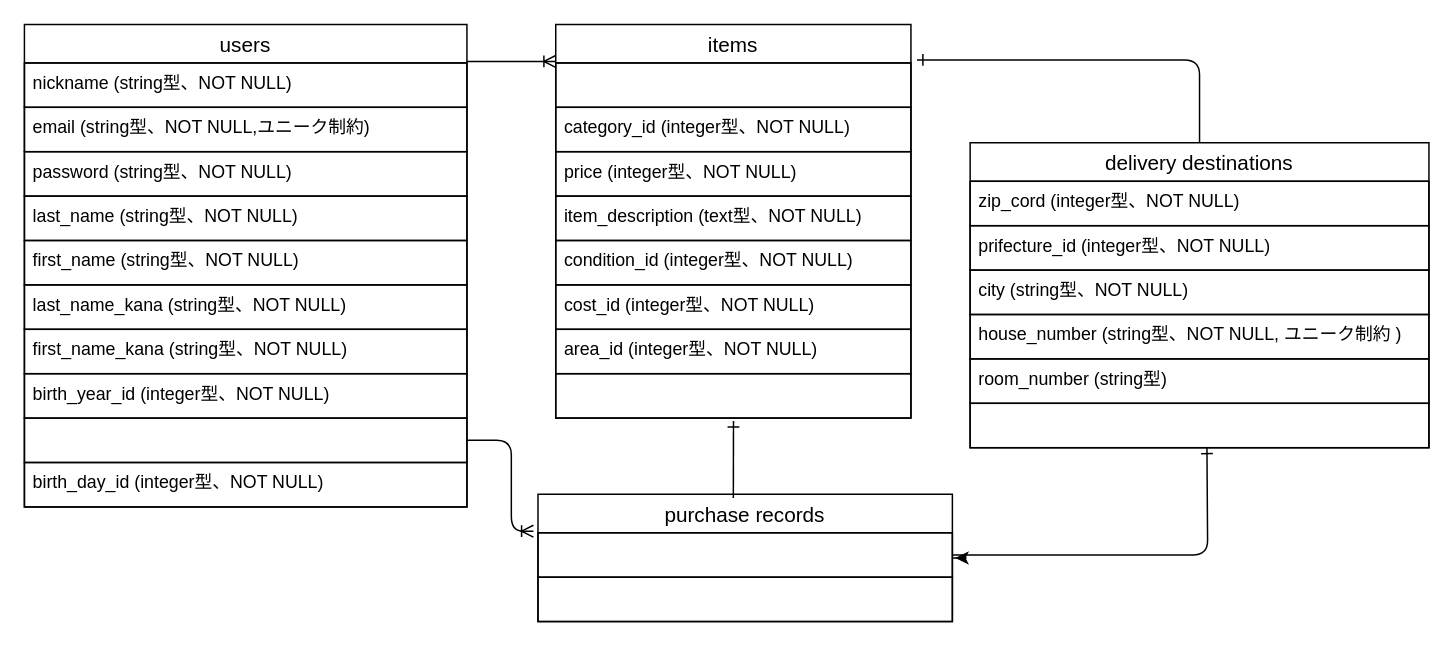
The diagram is 1453 pixels wide and 645 high, and some of its shapes have lost their labels. The shapes that lost their labels are listed below. From the top down, each one's centre as x and y in pixels, then its label:
At (x=732, y=84): "item_name (string型、NOT NULL)".
At (x=732, y=395): "days_id (integer型、NOT NULL)".
At (x=245, y=439): "birth_month_id (integer型、NOT NULL)".
At (x=1199, y=425): "phone_number (string型、NOT NULL, ユニーク制約 )".
At (x=744, y=554): "purchaser (referense型, NOT NULL, 外部キー)".
At (x=744, y=599): "item_info (referense型, NOT NULL, 外部キー)".
